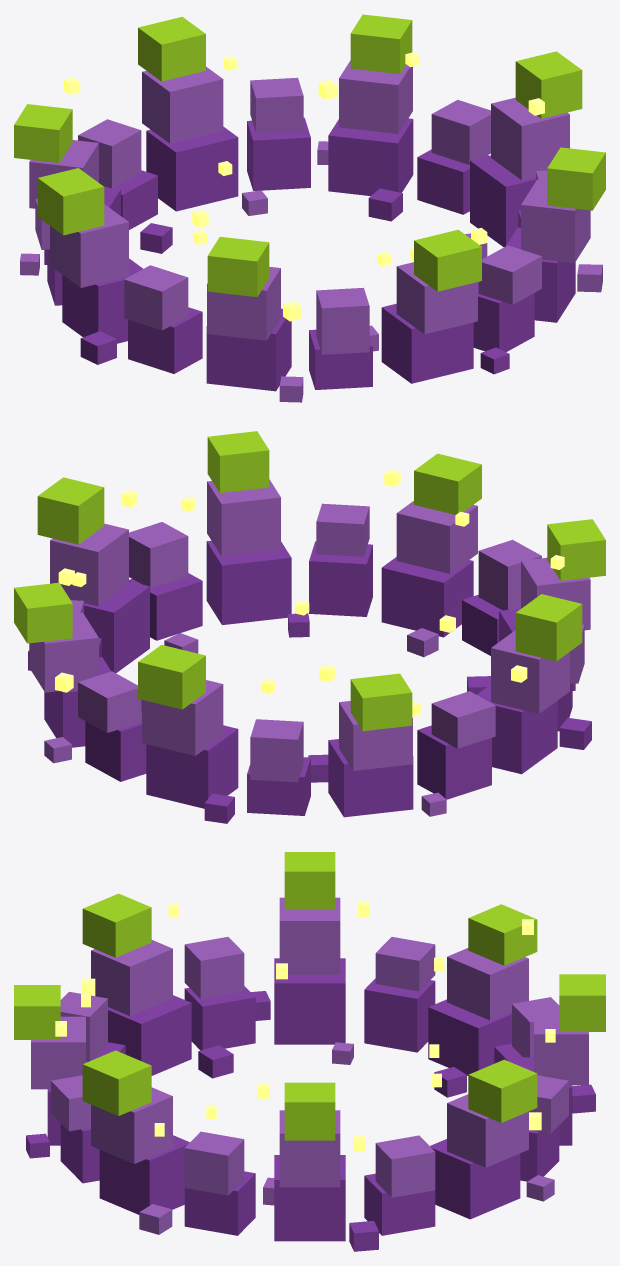
File: fx_pet_flop_splash.glb
3 views of the same model, one above another, from view 1: azimuth 30°, elevation 25°; view 2: azimuth 150°, elevation 25°; view 3: azimuth 270°, elevation 25° (orthographic).
Visible parts, largest first — view 1: splash_base_5, splash_base_3, splash_mid_5, splash_base_13, splash_mid_1, splash_base_11, splash_mid_9, splash_mid_3, splash_mid_15, splash_base_1, splash_base_4, splash_mid_13 (+31 smaller); view 2: splash_base_15, splash_base_13, splash_base_5, splash_mid_15, splash_mid_13, splash_mid_1, splash_base_7, splash_mid_9, splash_mid_5, splash_base_1, splash_base_8, splash_base_14 (+28 smaller); view 3: splash_base_9, splash_base_15, splash_mid_11, splash_base_3, splash_base_11, splash_mid_7, splash_base_1, splash_base_7, splash_base_8, splash_mid_9, splash_mid_15, splash_mid_3 (+32 smaller).
Boxes of the visible parts, box(x1,y1,x2,y2) form: splash_base_5: box(146, 126, 238, 211); splash_base_3: box(328, 118, 413, 195); splash_mid_5: box(142, 66, 223, 143); splash_base_13: box(381, 303, 473, 383); splash_mid_1: box(491, 97, 569, 180); splash_base_11: box(206, 308, 291, 391); splash_mid_9: box(50, 204, 128, 287); splash_mid_3: box(339, 60, 412, 133); splash_mid_15: box(521, 179, 590, 262); splash_base_1: box(470, 155, 535, 247); splash_base_4: box(247, 117, 310, 190); splash_mid_13: box(396, 262, 477, 334); splash_base_15: box(206, 540, 291, 624); splash_base_13: box(381, 557, 473, 637); splash_base_5: box(146, 725, 238, 808); splash_mid_15: box(207, 479, 280, 556); splash_mid_13: box(396, 501, 477, 573); splash_mid_1: box(50, 523, 128, 606); splash_base_7: box(328, 739, 413, 817); splash_mid_9: box(491, 630, 569, 713); splash_mid_5: box(142, 680, 223, 755); splash_base_1: box(70, 581, 149, 672); splash_base_8: box(417, 725, 491, 799); splash_base_14: box(309, 541, 372, 616); splash_base_9: box(274, 958, 345, 1044); splash_base_15: box(99, 1135, 189, 1214); splash_mid_11: box(91, 940, 172, 1015); splash_base_3: box(430, 1139, 520, 1219); splash_base_11: box(108, 995, 191, 1075); splash_mid_7: box(447, 948, 528, 1020); splash_base_1: box(274, 1155, 345, 1241); splash_base_7: box(428, 999, 511, 1075); splash_base_8: box(364, 978, 435, 1052); splash_mid_9: box(279, 897, 340, 974); splash_mid_15: box(91, 1087, 172, 1163); splash_mid_3: box(447, 1094, 528, 1167).
Size of the model in its own units: 7 by 2 by 7.
